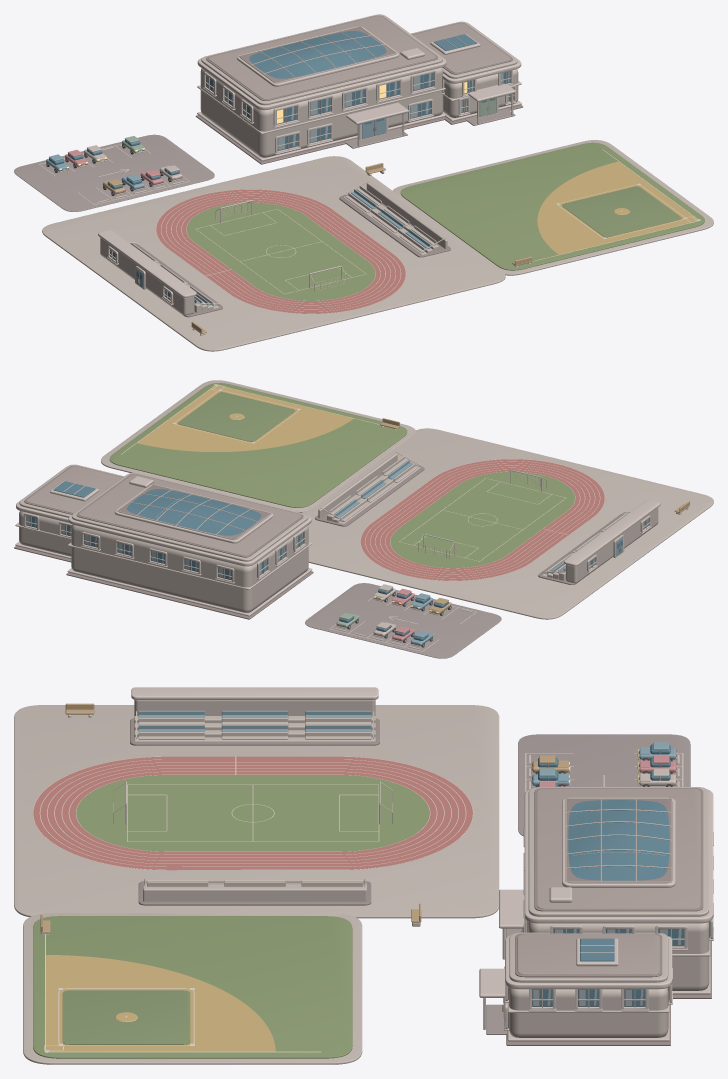
File: northwest-sports-v97.glb
The picture shows the model from 3 angles, top to bottom: view 1: azimuth 30°, elevation 25°; view 2: azimuth 150°, elevation 25°; view 3: azimuth 270°, elevation 25°; orthographic projection. The views are drawn at different scales.
Parts seen in each view (by area): view 1: SPORTS97_FLOOR_SPORTS97_turf, SPORTS97_FLOOR_SPORTS97_shell, SPORTS97_SOLID_SPORTS97_shell, SPORTS97_SOLID_SPORTS97_edge, SPORTS97_FLOOR_SPORTS97_rubber, SPORTS97_FLOOR_SPORTS97_paving, SPORTS97_SOLID_SPORTS97_glass, SPORTS97_SOLID_SPORTS97_roof, SPORTS97_FLOOR_SPORTS97_clay, SPORTS97_SOLID_SPORTS97_shadow, SPORTS97_SOLID_SPORTS97_cream, SPORTS97_FLOOR_SPORTS97_line (+6 smaller); view 2: SPORTS97_FLOOR_SPORTS97_turf, SPORTS97_FLOOR_SPORTS97_shell, SPORTS97_SOLID_SPORTS97_shell, SPORTS97_FLOOR_SPORTS97_rubber, SPORTS97_SOLID_SPORTS97_edge, SPORTS97_FLOOR_SPORTS97_paving, SPORTS97_SOLID_SPORTS97_roof, SPORTS97_SOLID_SPORTS97_glass, SPORTS97_FLOOR_SPORTS97_clay, SPORTS97_SOLID_SPORTS97_shadow, SPORTS97_FLOOR_SPORTS97_line, SPORTS97_SOLID_SPORTS97_cream (+4 smaller); view 3: SPORTS97_FLOOR_SPORTS97_turf, SPORTS97_FLOOR_SPORTS97_shell, SPORTS97_SOLID_SPORTS97_shell, SPORTS97_FLOOR_SPORTS97_rubber, SPORTS97_SOLID_SPORTS97_roof, SPORTS97_SOLID_SPORTS97_edge, SPORTS97_FLOOR_SPORTS97_clay, SPORTS97_SOLID_SPORTS97_glass, SPORTS97_SOLID_SPORTS97_shadow, SPORTS97_FLOOR_SPORTS97_line, SPORTS97_SOLID_SPORTS97_cream, SPORTS97_FLOOR_SPORTS97_infield (+6 smaller).
Boxes of the visible parts, bbox=[...] form: SPORTS97_FLOOR_SPORTS97_turf: bbox=[186, 142, 704, 300]; SPORTS97_FLOOR_SPORTS97_shell: bbox=[42, 140, 713, 351]; SPORTS97_SOLID_SPORTS97_shell: bbox=[100, 14, 518, 315]; SPORTS97_SOLID_SPORTS97_edge: bbox=[44, 17, 521, 305]; SPORTS97_FLOOR_SPORTS97_rubber: bbox=[156, 189, 405, 313]; SPORTS97_FLOOR_SPORTS97_paving: bbox=[14, 134, 214, 211]; SPORTS97_SOLID_SPORTS97_glass: bbox=[49, 31, 513, 300]; SPORTS97_SOLID_SPORTS97_roof: bbox=[208, 16, 510, 99]; SPORTS97_FLOOR_SPORTS97_clay: bbox=[537, 161, 697, 254]; SPORTS97_SOLID_SPORTS97_shadow: bbox=[100, 15, 523, 317]; SPORTS97_SOLID_SPORTS97_cream: bbox=[46, 26, 530, 335]; SPORTS97_FLOOR_SPORTS97_line: bbox=[39, 144, 700, 313]; SPORTS97_FLOOR_SPORTS97_turf: bbox=[109, 383, 574, 568]; SPORTS97_FLOOR_SPORTS97_shell: bbox=[101, 380, 713, 619]; SPORTS97_SOLID_SPORTS97_shell: bbox=[19, 453, 658, 612]; SPORTS97_FLOOR_SPORTS97_rubber: bbox=[360, 459, 604, 580]; SPORTS97_SOLID_SPORTS97_edge: bbox=[15, 467, 660, 649]; SPORTS97_FLOOR_SPORTS97_paving: bbox=[305, 583, 501, 658]; SPORTS97_SOLID_SPORTS97_roof: bbox=[26, 466, 300, 555]; SPORTS97_SOLID_SPORTS97_glass: bbox=[26, 481, 648, 640]; SPORTS97_FLOOR_SPORTS97_clay: bbox=[137, 385, 353, 451]; SPORTS97_SOLID_SPORTS97_shadow: bbox=[14, 465, 657, 619]; SPORTS97_FLOOR_SPORTS97_line: bbox=[121, 384, 604, 651]; SPORTS97_SOLID_SPORTS97_cream: bbox=[25, 425, 688, 646]; SPORTS97_FLOOR_SPORTS97_turf: bbox=[33, 775, 429, 1058]; SPORTS97_FLOOR_SPORTS97_shell: bbox=[14, 705, 499, 1064]; SPORTS97_SOLID_SPORTS97_shell: bbox=[134, 699, 709, 1037]; SPORTS97_FLOOR_SPORTS97_rubber: bbox=[33, 756, 472, 870]; SPORTS97_SOLID_SPORTS97_roof: bbox=[517, 788, 700, 974]; SPORTS97_SOLID_SPORTS97_edge: bbox=[125, 687, 713, 1041]; SPORTS97_FLOOR_SPORTS97_clay: bbox=[46, 955, 275, 1051]; SPORTS97_SOLID_SPORTS97_glass: bbox=[503, 744, 710, 1006]; SPORTS97_SOLID_SPORTS97_shadow: bbox=[130, 718, 711, 1045]; SPORTS97_FLOOR_SPORTS97_line: bbox=[33, 753, 683, 1052]; SPORTS97_SOLID_SPORTS97_cream: bbox=[41, 711, 713, 1029]; SPORTS97_FLOOR_SPORTS97_infield: bbox=[62, 990, 190, 1044].
Size of the model in its own units: 98.28 by 12.41 by 81.18.
